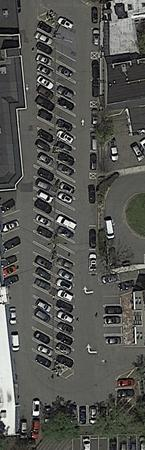parkingspot: (30, 16, 56, 373), (52, 38, 77, 372), (0, 200, 22, 288), (87, 178, 100, 274), (72, 434, 145, 450), (102, 296, 123, 346), (68, 404, 108, 426), (98, 268, 145, 286), (88, 106, 100, 174), (56, 12, 77, 40), (90, 5, 102, 54), (89, 58, 100, 103), (114, 379, 135, 400)
